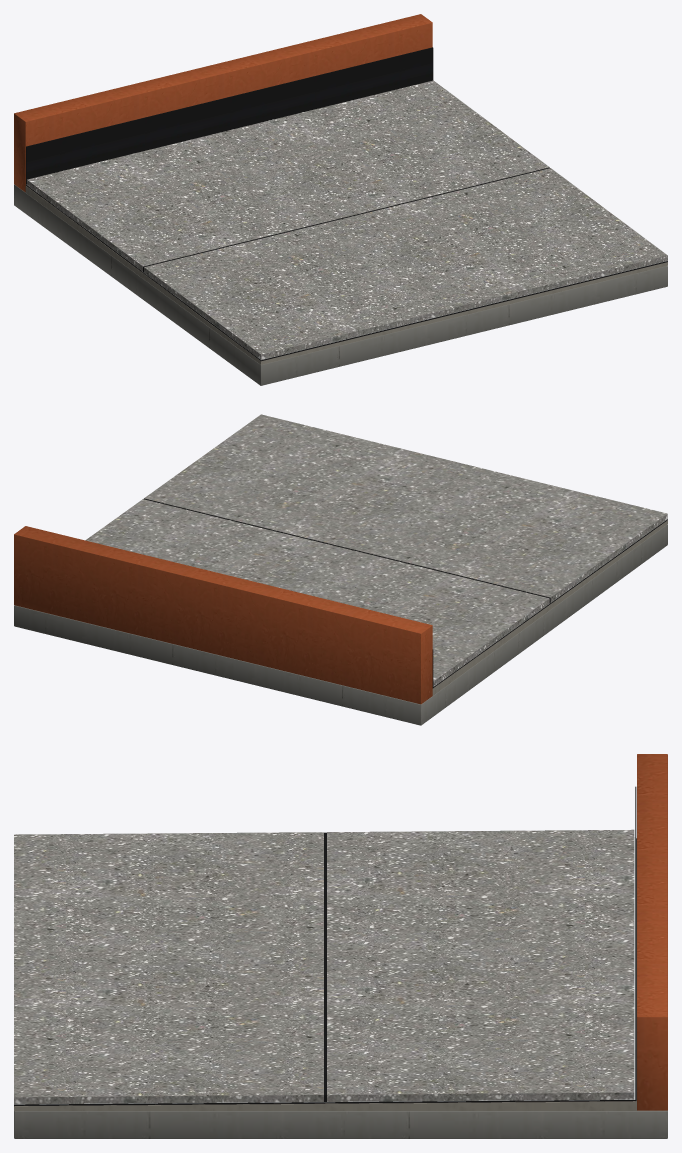
The model's file is KIT-IMP-01_lod1.glb.
The picture shows the model from 3 angles, top to bottom: view 1: azimuth 30°, elevation 25°; view 2: azimuth 150°, elevation 25°; view 3: azimuth 270°, elevation 25°; orthographic projection. The views are drawn at different scales.
Parts seen in each view (by area): view 1: KIT-IMP-01_protecao0, KIT-IMP-01_protecao1, KIT-IMP-01_mureta, KIT-IMP-01_laje, KIT-IMP-01_manta_rodape, KIT-IMP-01_regularizacao, KIT-IMP-01_manta0, KIT-IMP-01_junta; view 2: KIT-IMP-01_protecao0, KIT-IMP-01_mureta, KIT-IMP-01_protecao1, KIT-IMP-01_laje, KIT-IMP-01_regularizacao, KIT-IMP-01_junta; view 3: KIT-IMP-01_protecao0, KIT-IMP-01_protecao1, KIT-IMP-01_laje, KIT-IMP-01_mureta, KIT-IMP-01_regularizacao, KIT-IMP-01_filme, KIT-IMP-01_primer, KIT-IMP-01_junta, KIT-IMP-01_manta_rodape.
Boxes of the visible parts, x1,y1,x2,y2 form: KIT-IMP-01_protecao0: [144, 168, 667, 359]; KIT-IMP-01_protecao1: [27, 80, 549, 271]; KIT-IMP-01_mureta: [14, 14, 432, 192]; KIT-IMP-01_laje: [14, 184, 667, 385]; KIT-IMP-01_manta_rodape: [26, 47, 433, 185]; KIT-IMP-01_regularizacao: [25, 186, 667, 364]; KIT-IMP-01_manta0: [163, 261, 667, 360]; KIT-IMP-01_junta: [143, 167, 549, 271]; KIT-IMP-01_protecao0: [144, 414, 667, 602]; KIT-IMP-01_mureta: [14, 526, 432, 704]; KIT-IMP-01_protecao1: [85, 499, 549, 686]; KIT-IMP-01_laje: [14, 524, 667, 725]; KIT-IMP-01_regularizacao: [432, 520, 667, 695]; KIT-IMP-01_junta: [143, 498, 550, 603]; KIT-IMP-01_protecao0: [14, 832, 323, 1104]; KIT-IMP-01_protecao1: [327, 829, 634, 1101]; KIT-IMP-01_laje: [14, 1110, 667, 1138]; KIT-IMP-01_mureta: [637, 754, 667, 1110]; KIT-IMP-01_regularizacao: [14, 1101, 636, 1110]; KIT-IMP-01_filme: [14, 837, 635, 1104]; KIT-IMP-01_primer: [14, 838, 636, 1106]; KIT-IMP-01_junta: [324, 832, 326, 1101]; KIT-IMP-01_manta_rodape: [635, 786, 636, 1101].
Size of the model in its own units: 2.4 by 0.5199 by 2.52.
Materials: 8 (6 with a texture image).
